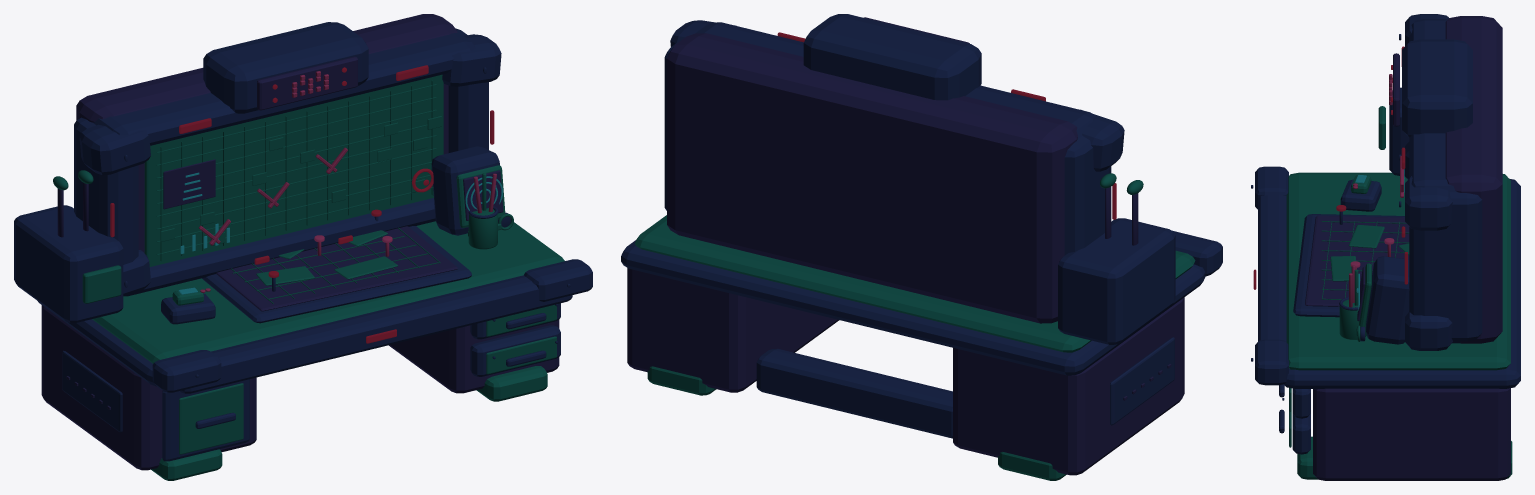
The model's file is prp_base_mission_operations_visual_top3d_v004.glb.
The picture shows the model from 3 angles, left to right: view 1: azimuth 30°, elevation 25°; view 2: azimuth 150°, elevation 25°; view 3: azimuth 270°, elevation 25°; orthographic projection. The views are drawn at different scales.
Visible parts, largest first — view 1: 远征情报终端_主体_金属哑光反光, 远征情报终端_UI灯光_柔和自发光; view 2: 远征情报终端_主体_金属哑光反光; view 3: 远征情报终端_主体_金属哑光反光, 远征情报终端_UI灯光_柔和自发光.
Boxes of the visible parts, box(x1,y1,x2,y2) form: 远征情报终端_主体_金属哑光反光: box(14, 14, 592, 480); 远征情报终端_UI灯光_柔和自发光: box(110, 65, 502, 343); 远征情报终端_主体_金属哑光反光: box(621, 14, 1222, 480); 远征情报终端_主体_金属哑光反光: box(1251, 14, 1520, 480); 远征情报终端_UI灯光_柔和自发光: box(1253, 46, 1407, 310).
Size of the model in its own units: 5 by 3.55 by 2.68.
4 materials, 4 textured.
